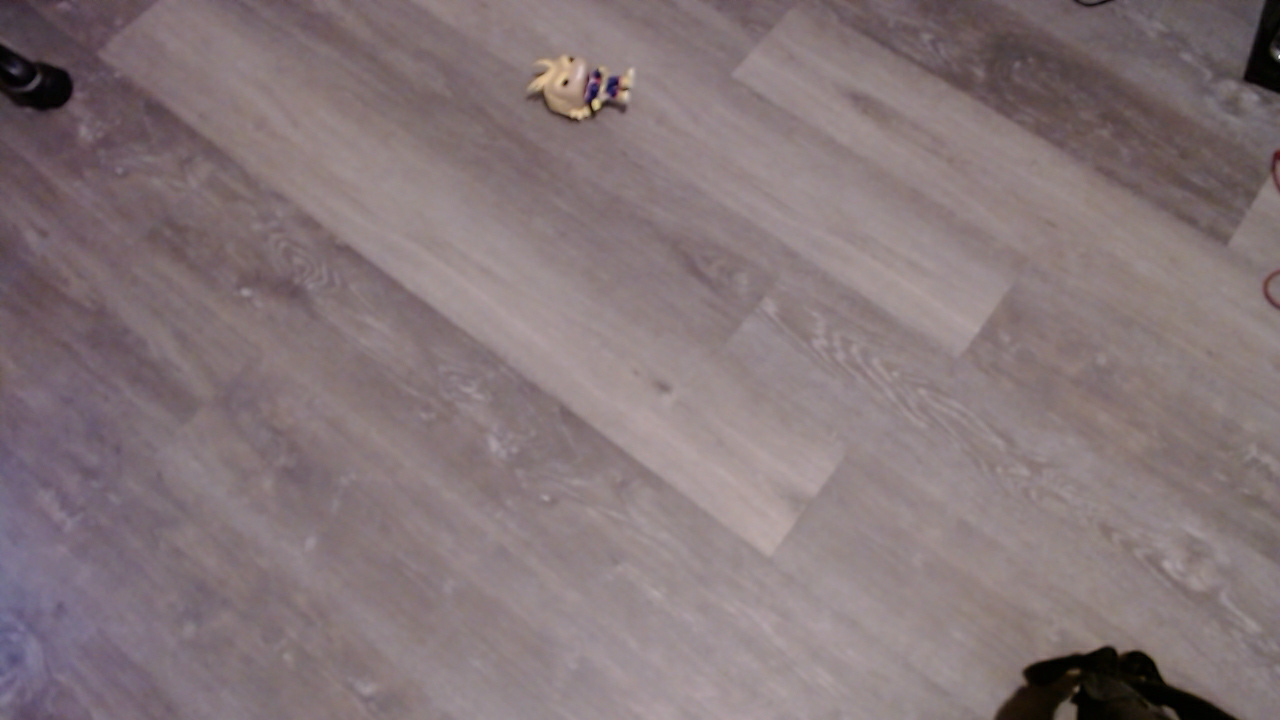all_might: (520, 52, 655, 142)
